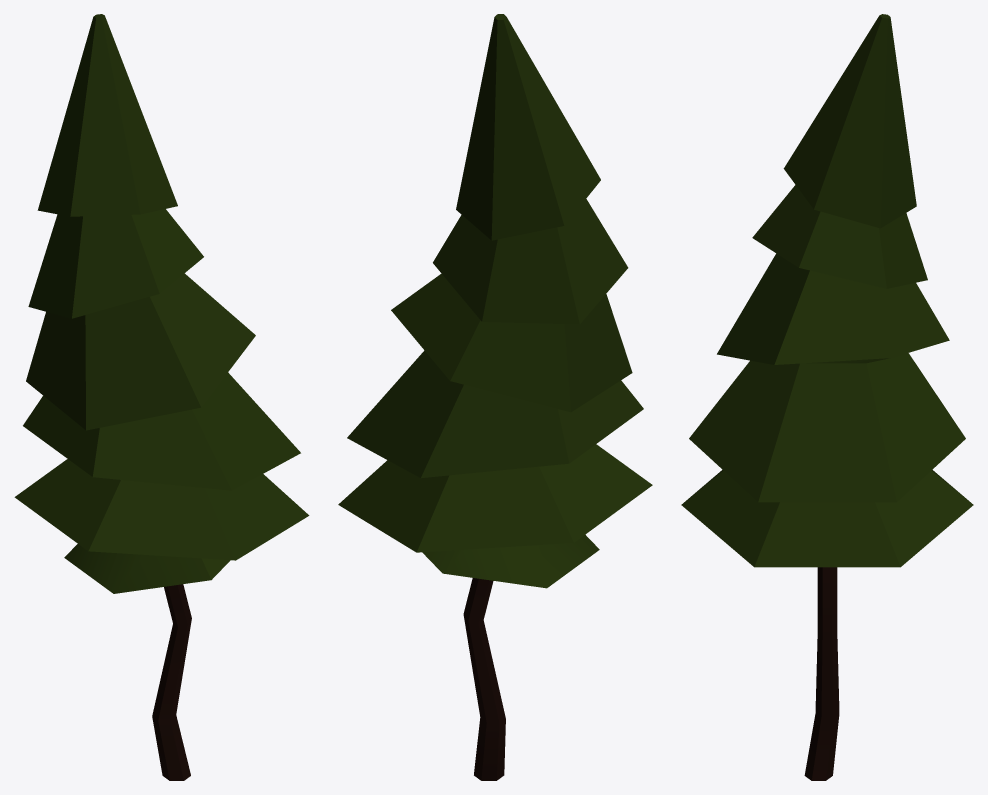
Rendered from three_one.fbx.
3 renders of one model, left to right at view 1: azimuth 30°, elevation 25°; view 2: azimuth 150°, elevation 25°; view 3: azimuth 270°, elevation 25°, orthographic. The views are drawn at different scales.
Parts seen in each view (by area): view 1: three_one; view 2: three_one; view 3: three_one.
Part boxes in pixels (x1,y1,x2,y2): three_one: (14,14,309,780); three_one: (338,14,652,780); three_one: (681,14,973,780).
Bounding box in the file's own units: 454 × 1465 × 526.
